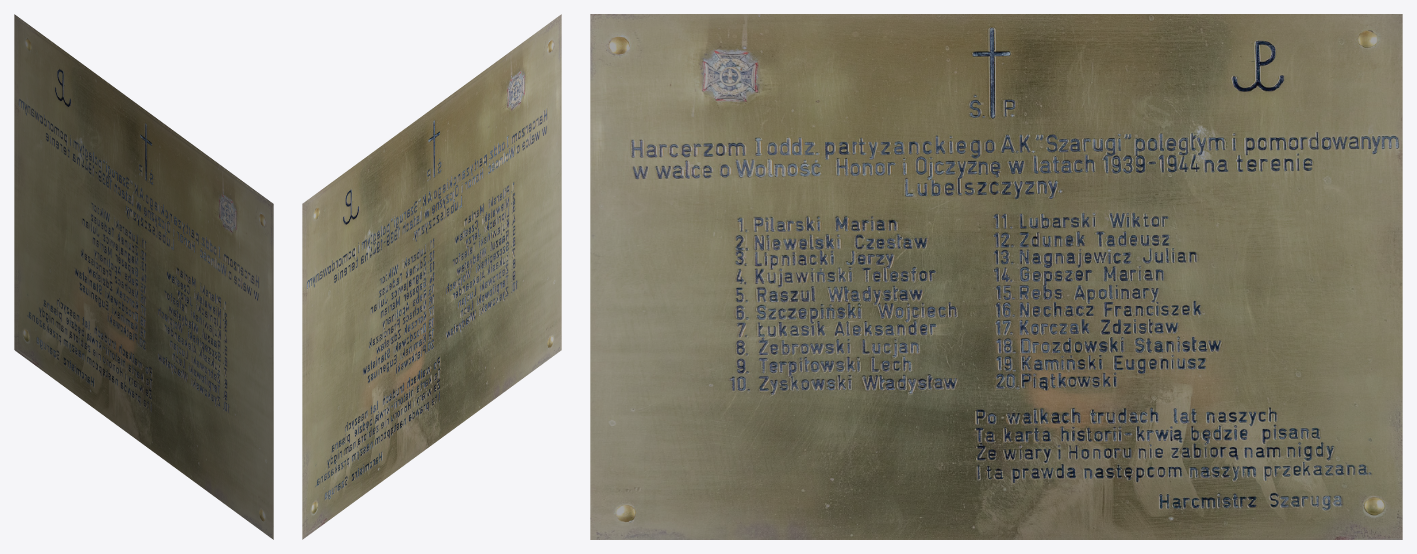
File: 33. Ś.P. Harcerzom I Oddziału Partyzanckiego Armii Krajowej ”Szarugi’’.glb
The picture shows the model from 3 angles, left to right: view 1: azimuth 30°, elevation 25°; view 2: azimuth 150°, elevation 25°; view 3: azimuth 270°, elevation 25°; orthographic projection. The views are drawn at different scales.
Visible parts, largest first — view 1: Plane; view 2: Plane; view 3: Plane.
Part boxes in pixels (bbox=[...]): Plane: bbox=[14, 14, 273, 539]; Plane: bbox=[302, 14, 561, 539]; Plane: bbox=[590, 14, 1402, 539].
Bounding box in the file's own units: 0.0102 × 30 × 42.
Materials: 1 (1 with a texture image).
